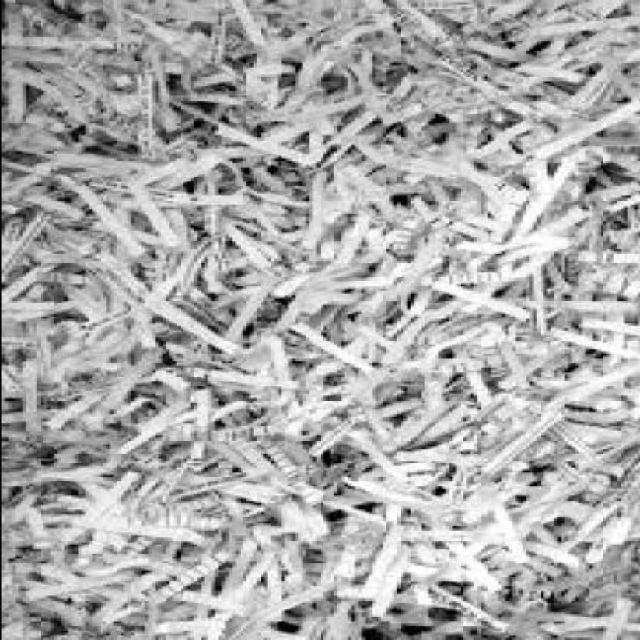PAPER: (1, 1, 637, 638)
